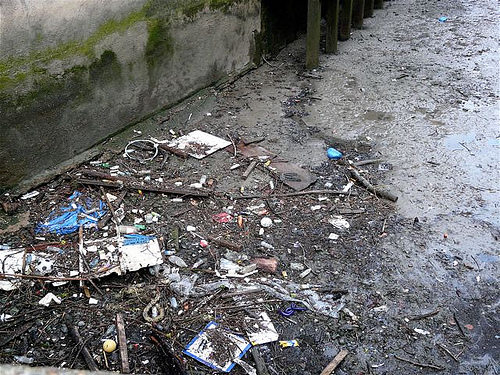rubble: (12, 131, 382, 369)
